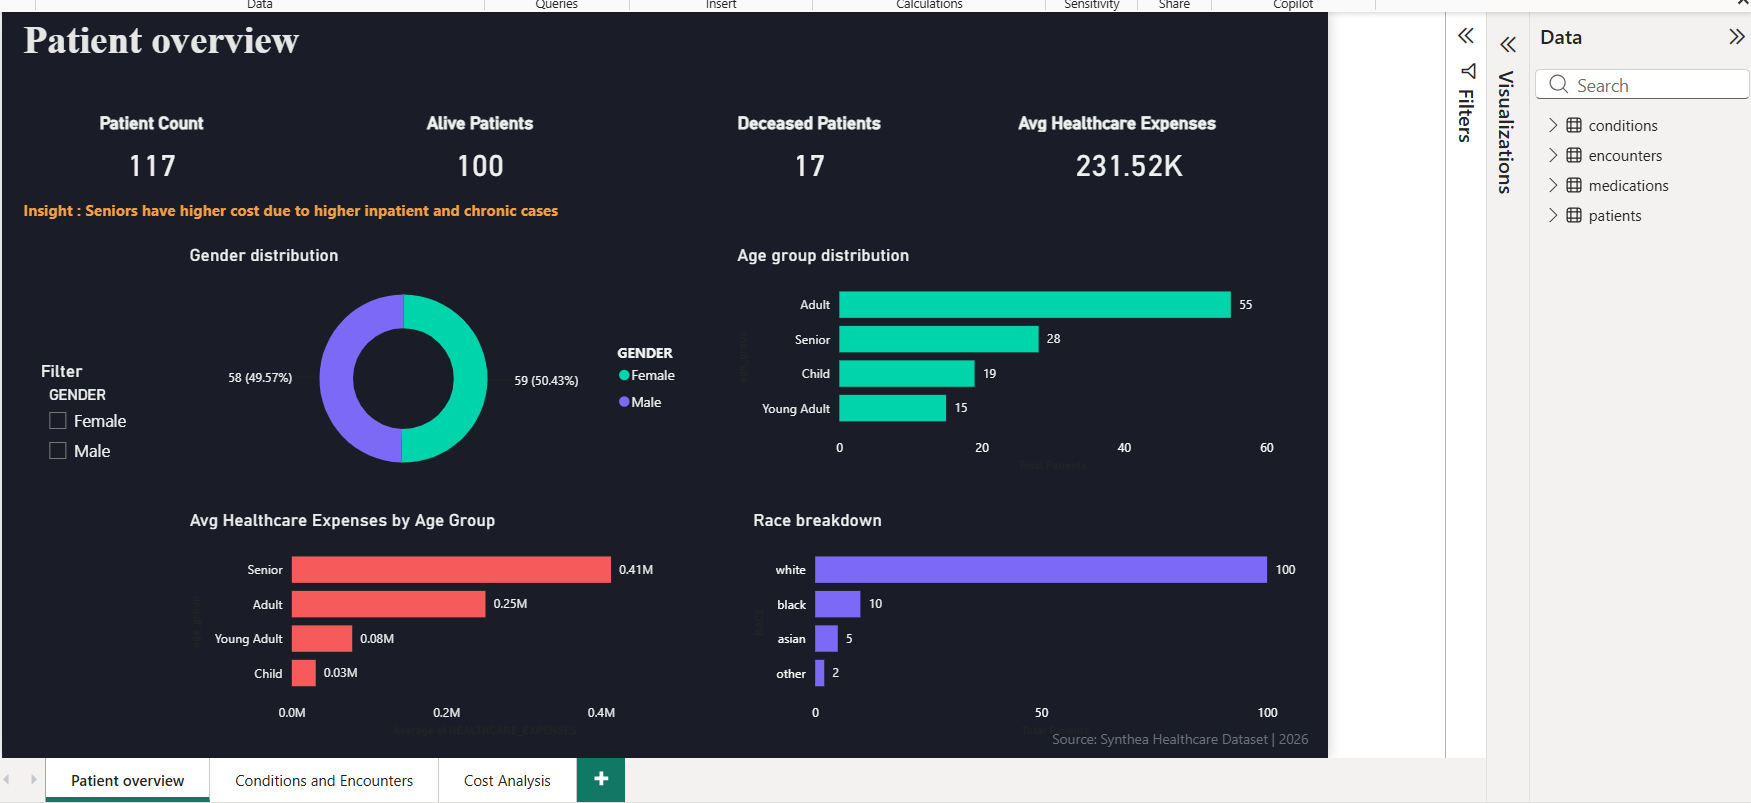

The dashboard page shown, as its layout file describes it:
{"tool":"powerbi","page":{"name":"Patient overview","canvas":[1280,720],"ordinal":0},"visuals":[{"type":"card","title":"Patient Count","fields":{"Values":["patients.Total Patients"]},"box":[32,96,224,80],"z":0},{"type":"card","title":"Avg Healthcare Expenses","fields":{"Values":["Avg(patients.HEALTHCARE_EXPENSES)"]},"box":[976,96,224,80],"z":1000},{"type":"card","title":"Deceased Patients","fields":{"Values":["patients.Deceased Patients"]},"box":[666.7,96,224,80],"z":2000},{"type":"card","title":"Alive Patients","fields":{"Values":["patients.Alive Patients"]},"box":[341.3,96,240,80],"z":3000},{"type":"donutChart","title":"Gender distribution","fields":{"Category":["patients.GENDER","patients.MARITAL"],"Y":["CountNonNull(patients.GENDER)"]},"box":[176,224,496,240],"z":4000},{"type":"clusteredBarChart","title":"Age group distribution","fields":{"Y":["patients.Total Patients"],"Category":["patients.age_group"]},"box":[704,224,528,224],"z":5000},{"type":"clusteredBarChart","title":"Race breakdown","fields":{"Category":["patients.RACE"],"Y":["patients.Total Patients"]},"box":[720,480,544,224],"z":6000},{"type":"clusteredBarChart","title":"Avg Healthcare Expenses by Age Group","fields":{"Y":["Avg(patients.HEALTHCARE_EXPENSES)"],"Category":["patients.age_group"]},"box":[176,480,496,224],"z":7000},{"type":"slicer","title":"Filter","fields":{"Values":["patients.GENDER"]},"box":[32,336,128,176],"z":8000},{"type":"textbox","box":[16,176,928,32],"z":9000},{"type":"textbox","box":[16,0,432,64],"z":10000},{"type":"textbox","box":[1008,688,272,32],"z":10001}]}

Visuals, with their boxes on the page's 1280x720 design canvas (x1, y1, x2, y2). These are canvas units, not pixel positions in the 1751x803 screenshot, which may show the page scaled, cropped or inside an application window:
"Patient Count" card: select_region(32, 96, 256, 176)
"Avg Healthcare Expenses" card: select_region(976, 96, 1200, 176)
"Deceased Patients" card: select_region(667, 96, 891, 176)
"Alive Patients" card: select_region(341, 96, 581, 176)
"Gender distribution" donutChart: select_region(176, 224, 672, 464)
"Age group distribution" clusteredBarChart: select_region(704, 224, 1232, 448)
"Race breakdown" clusteredBarChart: select_region(720, 480, 1264, 704)
"Avg Healthcare Expenses by Age Group" clusteredBarChart: select_region(176, 480, 672, 704)
"Filter" slicer: select_region(32, 336, 160, 512)
textbox: select_region(16, 176, 944, 208)
textbox: select_region(16, 0, 448, 64)
textbox: select_region(1008, 688, 1280, 720)
